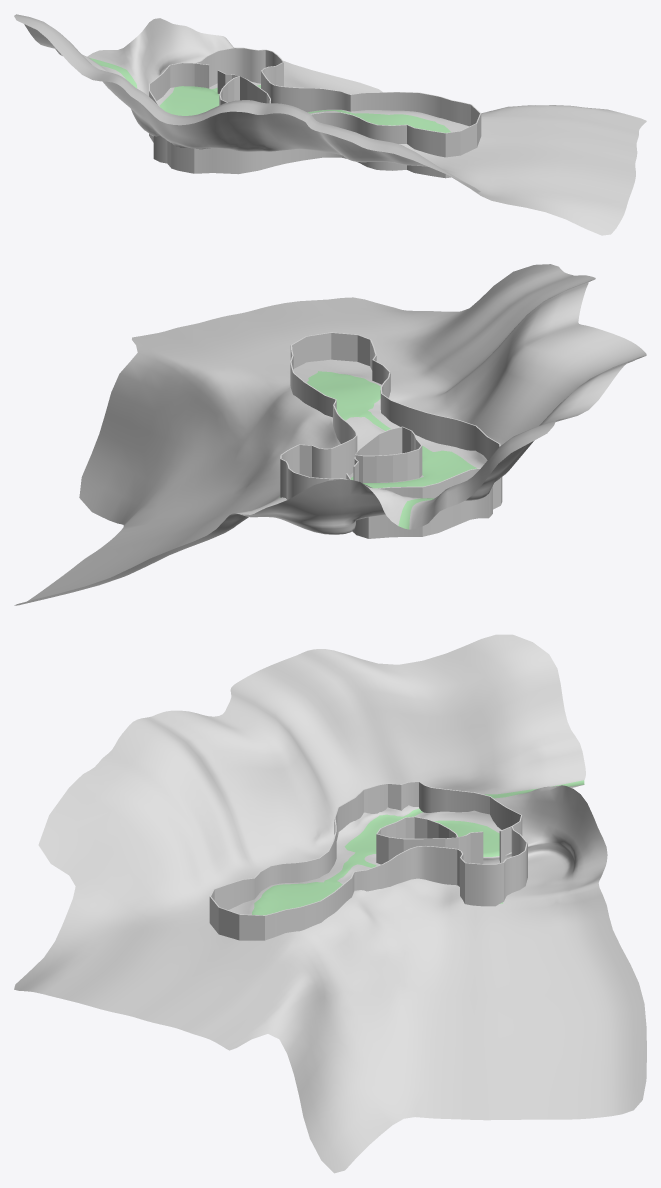
Rendered from map.fbx.
3 views of the same model, one above another, from view 1: azimuth 30°, elevation 25°; view 2: azimuth 150°, elevation 25°; view 3: azimuth 270°, elevation 25° (orthographic). The views are drawn at different scales.
Parts seen in each view (by area): view 1: Map, Boundary; view 2: Map, Boundary; view 3: Map, Boundary.
Boxes of the visible parts, x1,y1,x2,y2 form: Map: (14,14,646,235); Boundary: (149,47,481,178); Map: (14,264,646,605); Boundary: (280,332,502,538); Map: (14,634,646,1173); Boundary: (209,781,527,940).
Size of the model in its own units: 51332 by 23829 by 50040.
